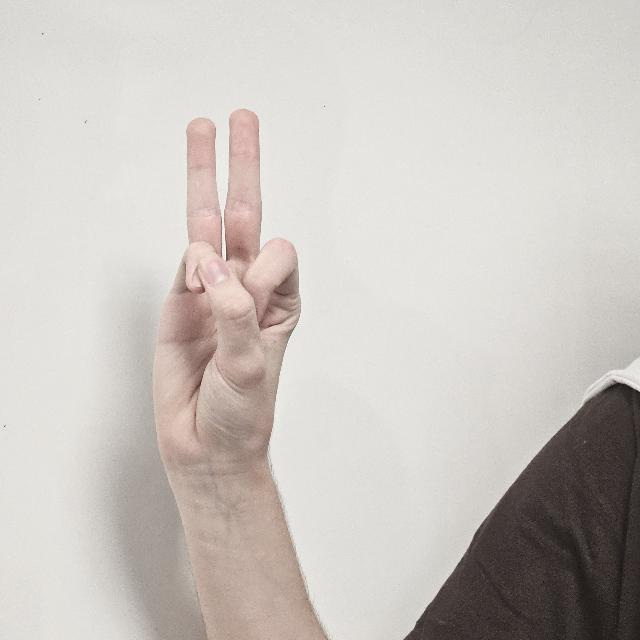R: (152, 108, 300, 490)
